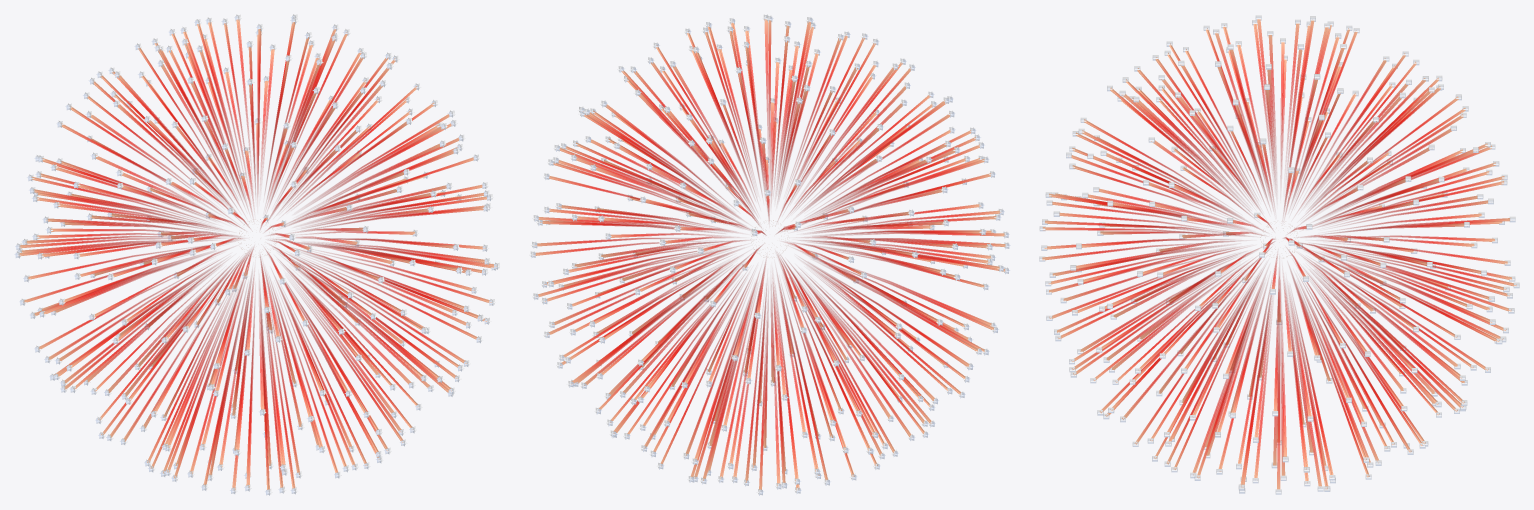
Rendered from fw_chrys_red_gold_a.glb.
3 views of the same model, side by side, from view 1: azimuth 30°, elevation 25°; view 2: azimuth 150°, elevation 25°; view 3: azimuth 270°, elevation 25° (orthographic).
Parts seen in each view (by area): view 1: spire; view 2: spire; view 3: spire.
Part boxes in pixels (bbox=[...]): spire: bbox=[14, 14, 499, 495]; spire: bbox=[529, 14, 1010, 495]; spire: bbox=[1039, 15, 1519, 494].
Size of the model in its own units: 22.21 by 22.23 by 22.14.
2 materials, 2 textured.
